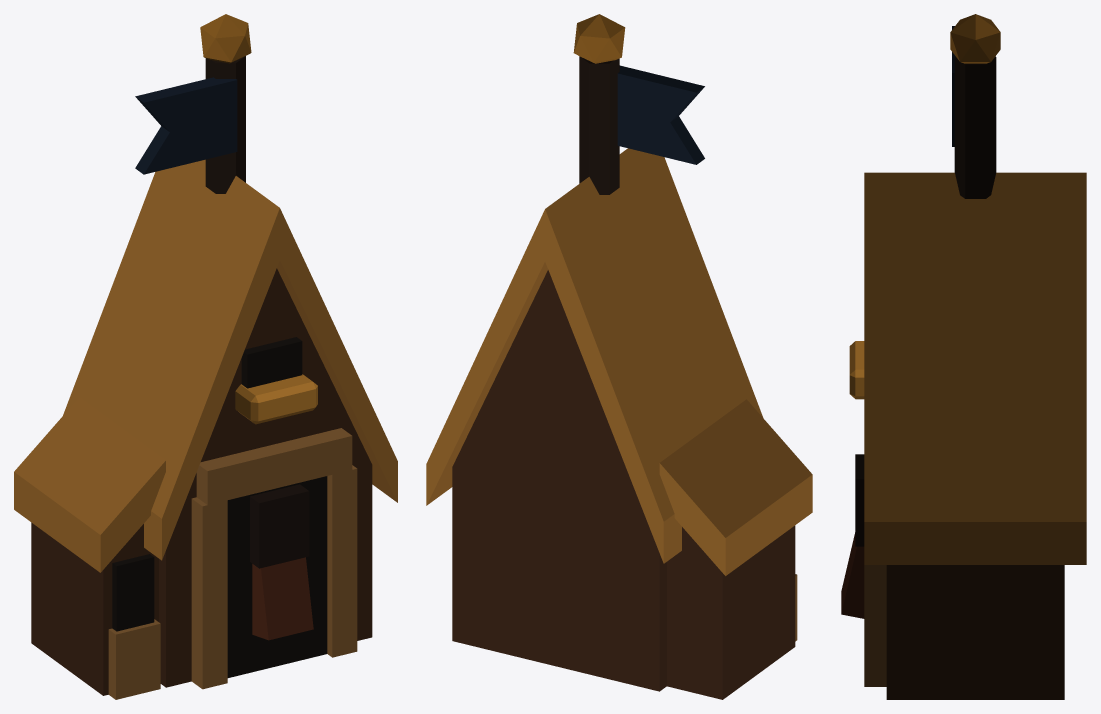
The model's file is stable.obj.
3 views of the same model, side by side, from view 1: azimuth 30°, elevation 25°; view 2: azimuth 150°, elevation 25°; view 3: azimuth 270°, elevation 25° (orthographic). The views are drawn at different scales.
Parts seen in each view (by area): view 1: core_thatch, core_wood, core_plank, core_black, core_team, core_horse_dark, core_horse, core_hay, core_wood_dark, core_gold; view 2: core_wood, core_thatch, core_team, core_wood_dark, core_gold; view 3: core_thatch, core_wood, core_wood_dark, core_plank, core_gold, core_horse, core_horse_dark, core_hay.
Part boxes in pixels (x1=…): core_thatch: x1=14, y1=159, x2=397, y2=572; core_wood: x1=31, y1=268, x2=372, y2=695; core_plank: x1=108, y1=428, x2=357, y2=699; core_black: x1=112, y1=337, x2=327, y2=677; core_team: x1=135, y1=77, x2=237, y2=174; core_horse_dark: x1=250, y1=484, x2=309, y2=568; core_horse: x1=252, y1=557, x2=313, y2=640; core_hay: x1=235, y1=374, x2=317, y2=424; core_wood_dark: x1=205, y1=56, x2=245, y2=193; core_gold: x1=200, y1=14, x2=251, y2=63; core_wood: x1=452, y1=270, x2=795, y2=699; core_thatch: x1=426, y1=148, x2=812, y2=575; core_team: x1=617, y1=65, x2=704, y2=164; core_wood_dark: x1=579, y1=56, x2=619, y2=194; core_gold: x1=573, y1=14, x2=625, y2=63; core_thatch: x1=864, y1=172, x2=1086, y2=564; core_wood: x1=886, y1=565, x2=1064, y2=699; core_wood_dark: x1=954, y1=56, x2=996, y2=198; core_plank: x1=864, y1=565, x2=886, y2=686; core_gold: x1=950, y1=14, x2=1000, y2=63; core_horse: x1=841, y1=532, x2=864, y2=618; core_horse_dark: x1=855, y1=454, x2=864, y2=546; core_hay: x1=849, y1=341, x2=864, y2=399.
Bounding box in the file's own units: 0.2295 × 0.472 × 0.1656.
